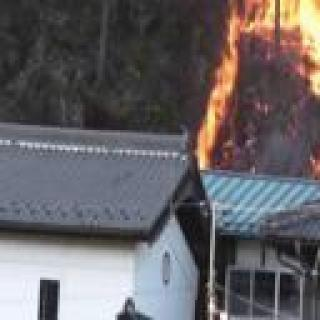fire: (209, 0, 320, 177)
